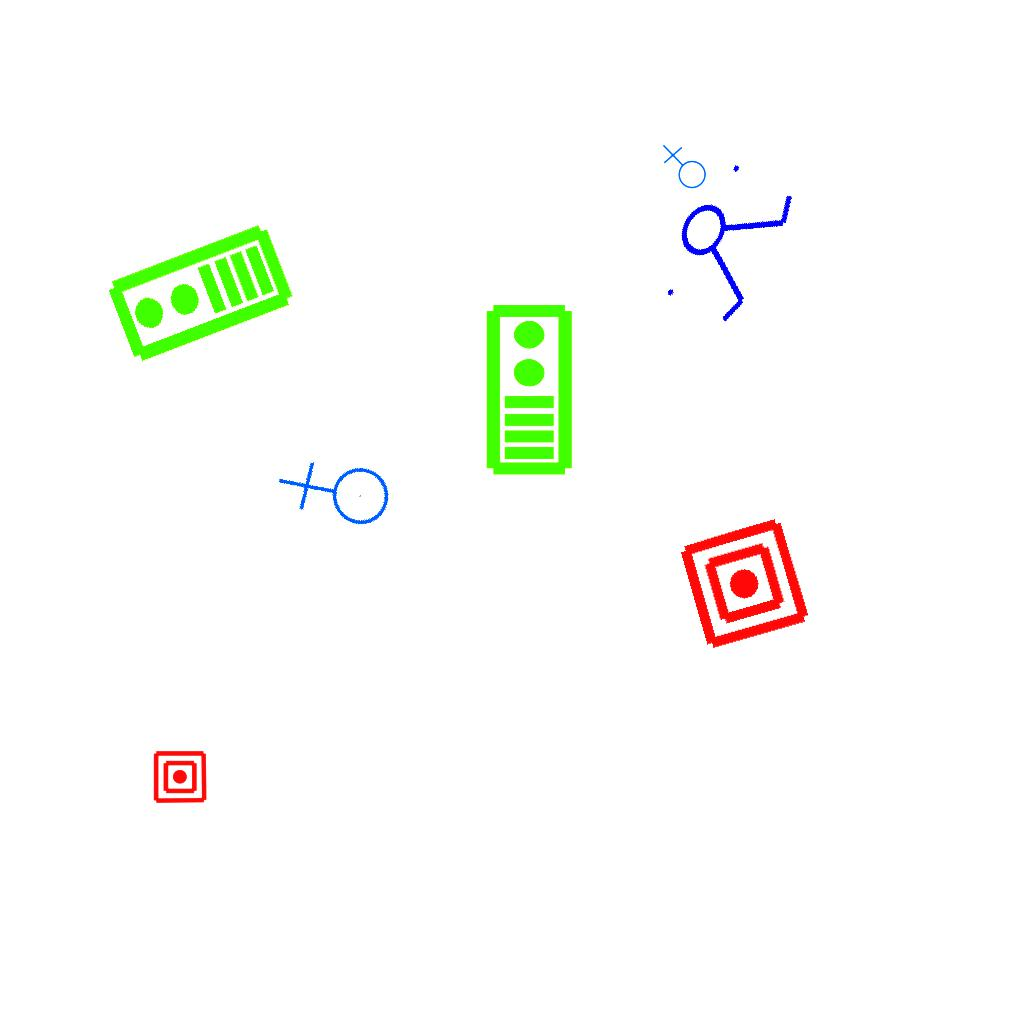Elektroanschluss_allgemein_230V_Geraeteanschlussdose_230V: (272, 428, 407, 564), (660, 144, 707, 193)
Gegensprechanlage_mit_Video: (101, 219, 300, 371), (480, 301, 575, 477)
NAM-Nichtautomatischer_Melder: (674, 513, 815, 654), (152, 749, 208, 805)
Serienschalter: (645, 144, 809, 338)
